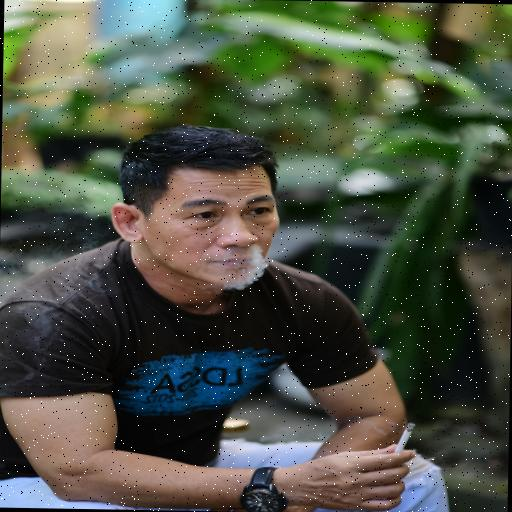asap rokok: (182, 196, 294, 312)
pegang rokok: (319, 394, 443, 512)
